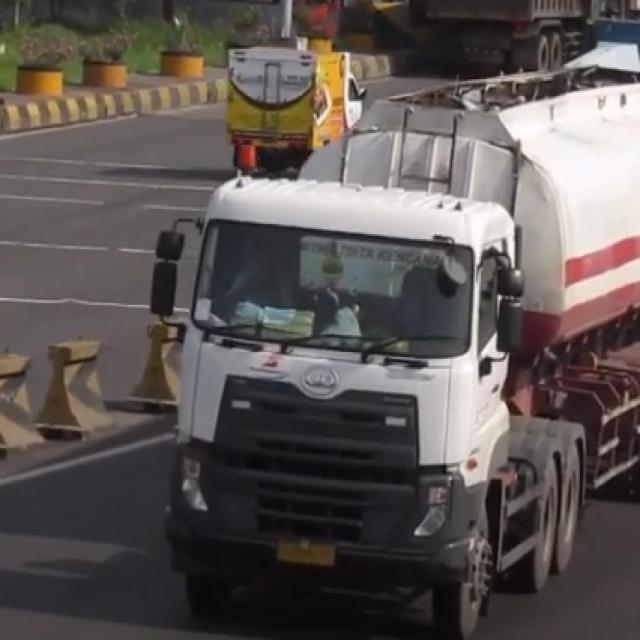truck: (160, 83, 640, 598)
